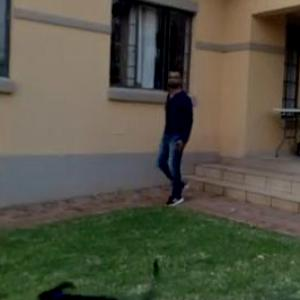follow: (157, 74, 185, 175)
